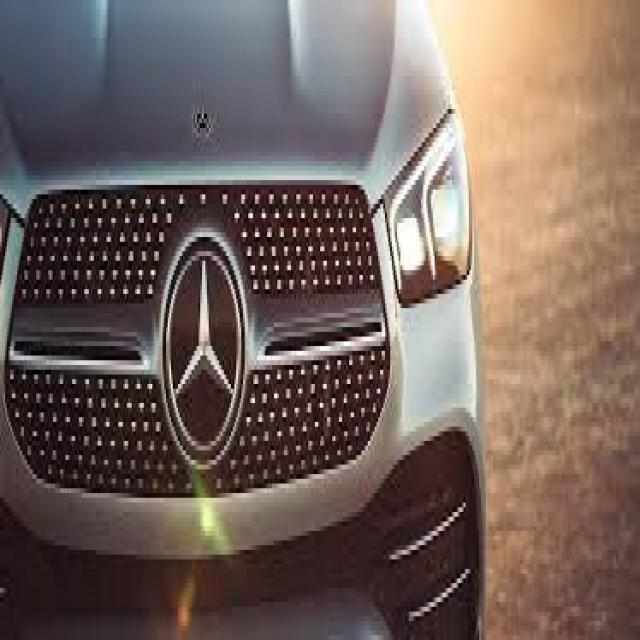mercedes_logo: (164, 234, 248, 470)
